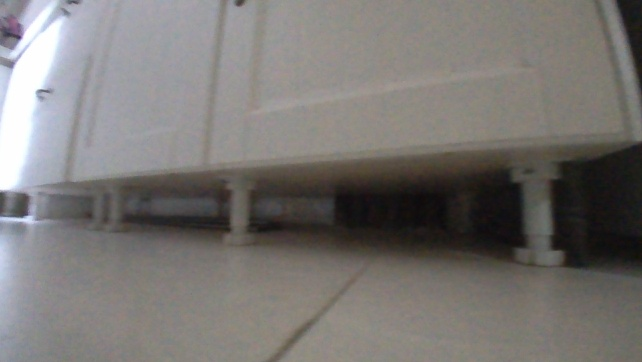dining_table: (0, 0, 640, 270)
